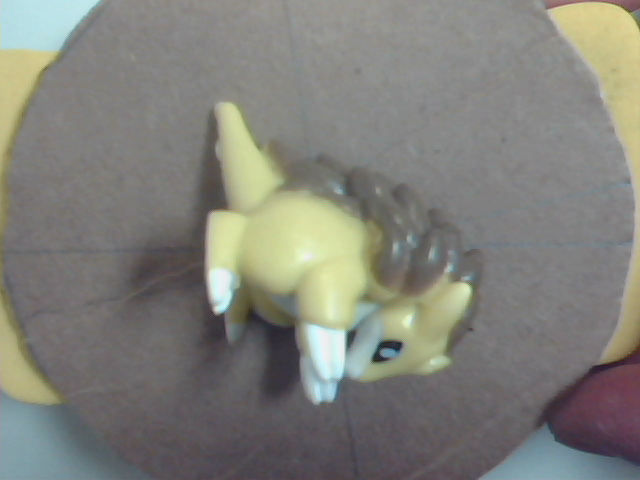sandslash: (157, 99, 507, 437)
